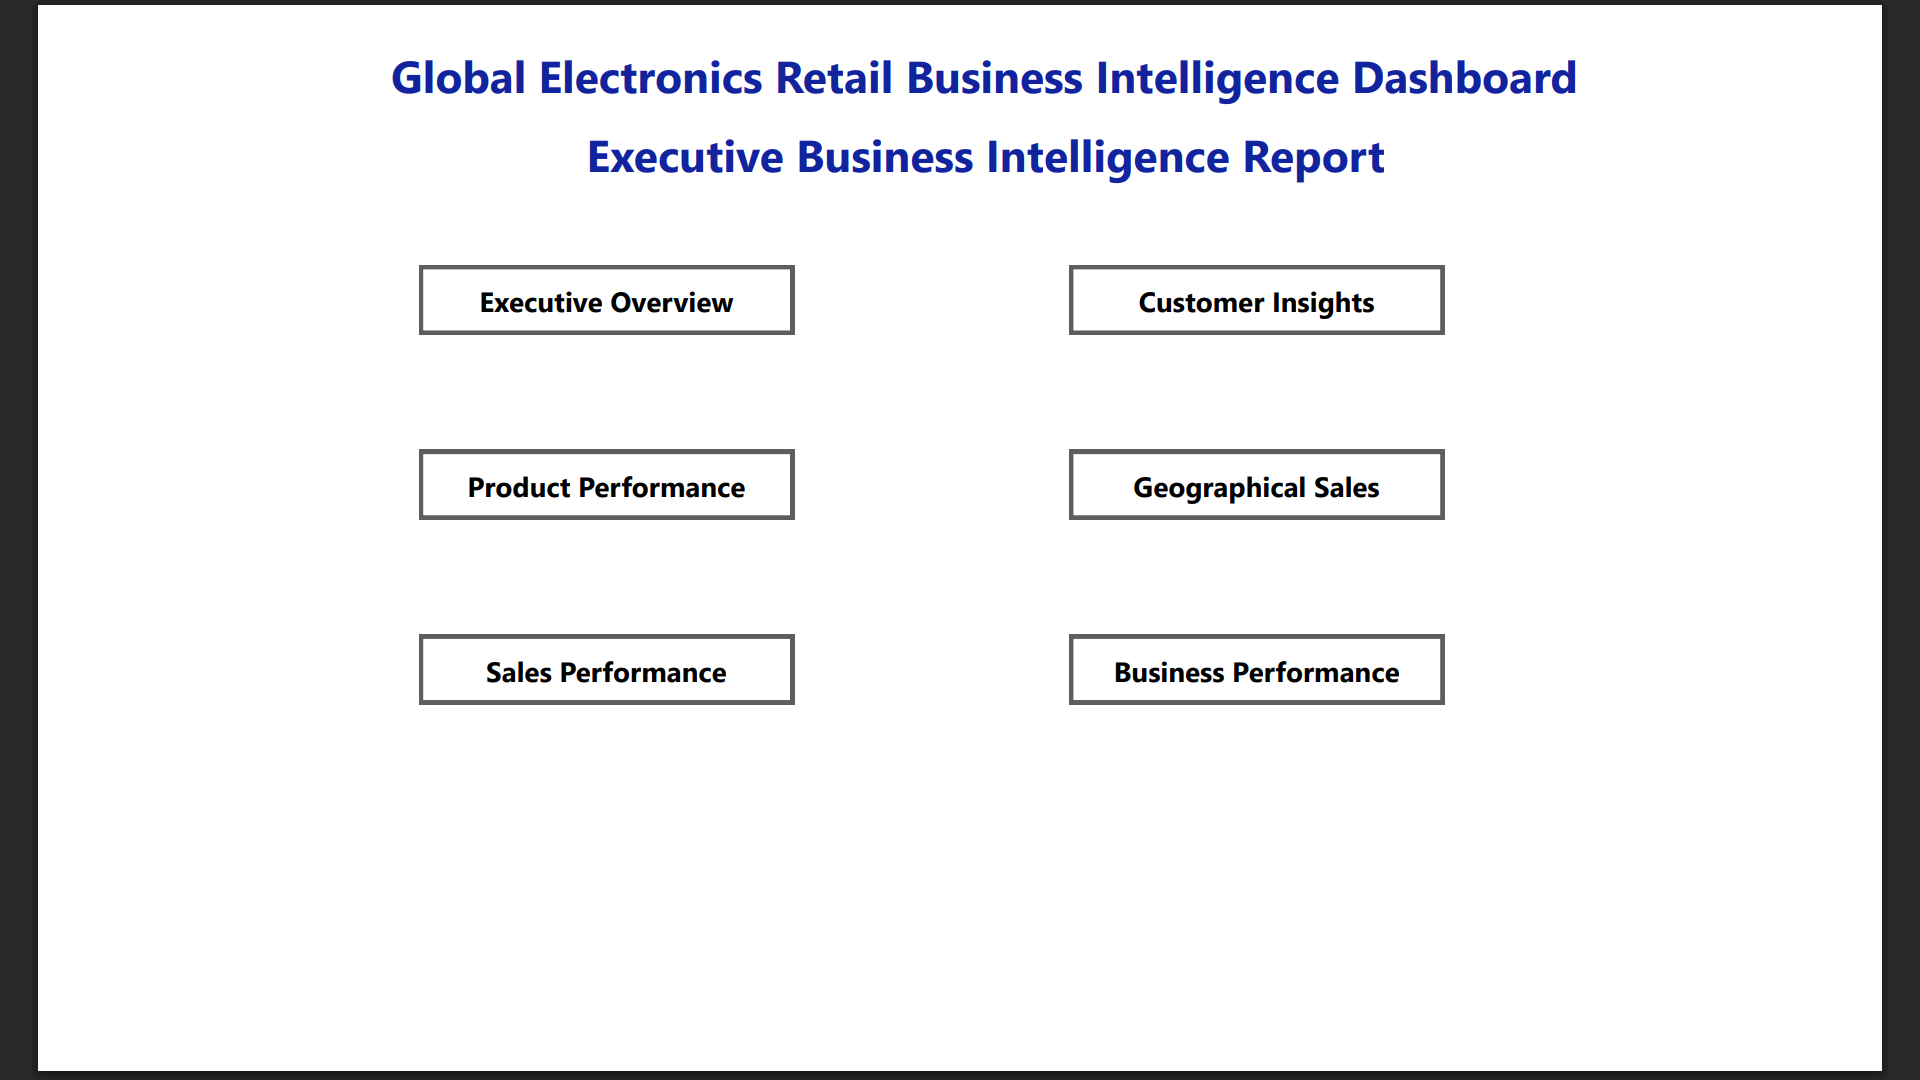

Layout of this report page (visuals, bound fields, positions):
{"tool":"powerbi","page":{"name":"Home","canvas":[1280,720],"ordinal":0},"visuals":[{"type":"textbox","box":[226.2,0,864.5,57.5],"z":0},{"type":"textbox","box":[351,57.5,616.3,74.6],"z":1000},{"type":"actionButton","box":[250.7,163.9,270,50],"z":2000},{"type":"actionButton","box":[719,163.9,270,50],"z":3000},{"type":"actionButton","box":[250.7,297.1,270,50],"z":4000},{"type":"actionButton","box":[719,297.1,270,50],"z":5000},{"type":"actionButton","box":[250.7,430.4,270,50],"z":6000},{"type":"actionButton","box":[719,430.4,270,50],"z":7000}]}

Visuals, with their boxes in screenshot pixels (x1, y1, x2, y2), scaled from the page's 1280x720 canvas onto the 1920x1080 screenshot:
textbox: region(339, 0, 1636, 86)
textbox: region(526, 86, 1451, 198)
actionButton: region(376, 246, 781, 321)
actionButton: region(1078, 246, 1484, 321)
actionButton: region(376, 446, 781, 521)
actionButton: region(1078, 446, 1484, 521)
actionButton: region(376, 646, 781, 721)
actionButton: region(1078, 646, 1484, 721)
